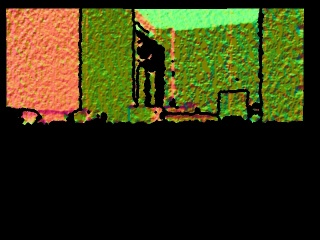station: (128, 65, 164, 124)
